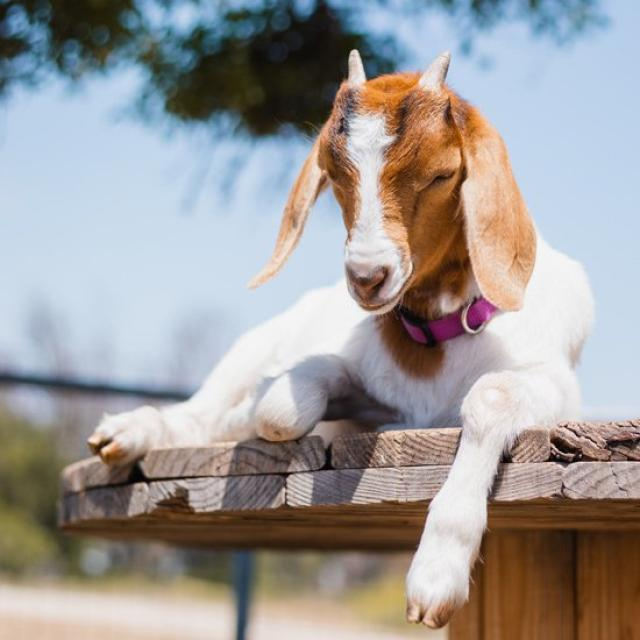Goat: (74, 40, 594, 610)
